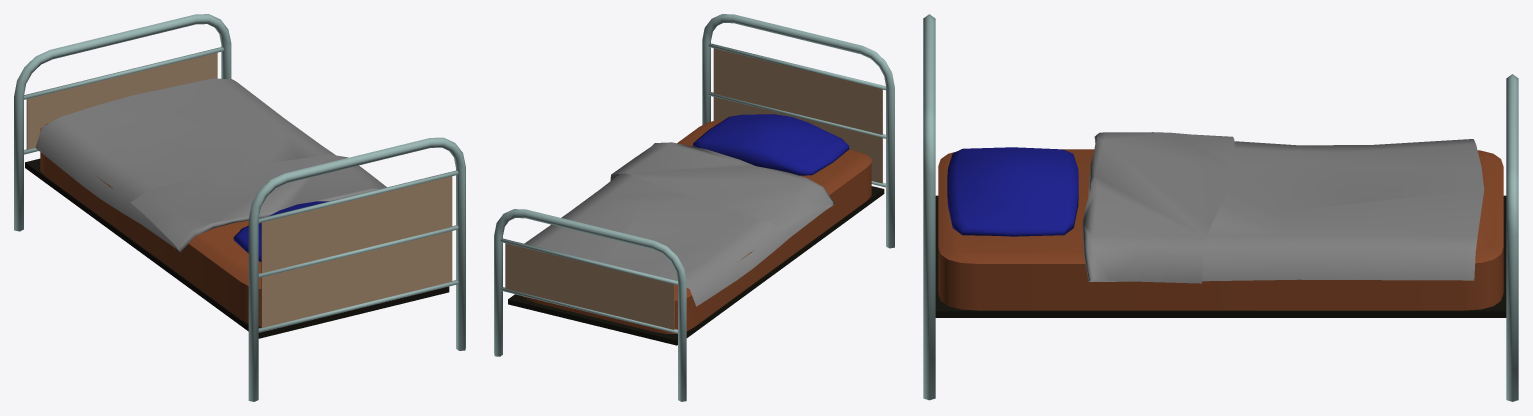
Rendered from bed_2.fbx.
3 views of the same model, side by side, from view 1: azimuth 30°, elevation 25°; view 2: azimuth 150°, elevation 25°; view 3: azimuth 270°, elevation 25° (orthographic). The views are drawn at different scales.
Visible parts, largest first — view 1: blanket, Box002, Line003, Box004, Rectangle006, Box005; view 2: blanket, Box002, Line003, Box004, Box005, Rectangle006; view 3: blanket, Box004, Box005, Line003, Rectangle006.
Boxes of the visible parts, x1,y1,x2,y2 form: blanket: (35, 78, 386, 252); Box002: (26, 52, 452, 327); Line003: (14, 14, 465, 401); Box004: (40, 123, 261, 326); Rectangle006: (25, 158, 449, 338); Box005: (233, 201, 328, 261); blanket: (524, 142, 834, 306); Box002: (505, 48, 882, 329); Line003: (494, 14, 894, 401); Box004: (522, 120, 871, 333); Box005: (693, 114, 849, 175); Rectangle006: (508, 186, 884, 345); blanket: (1082, 132, 1484, 283); Box004: (938, 149, 1503, 310); Box005: (947, 147, 1078, 236); Line003: (923, 14, 1518, 401); Rectangle006: (935, 195, 1506, 317).
Size of the model in its own units: 20.86 by 19.76 by 39.01.
